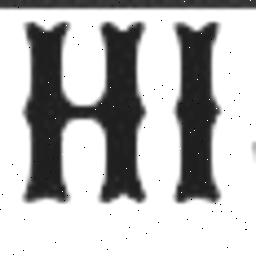h: (9, 11, 159, 211)
i: (158, 16, 228, 204)
